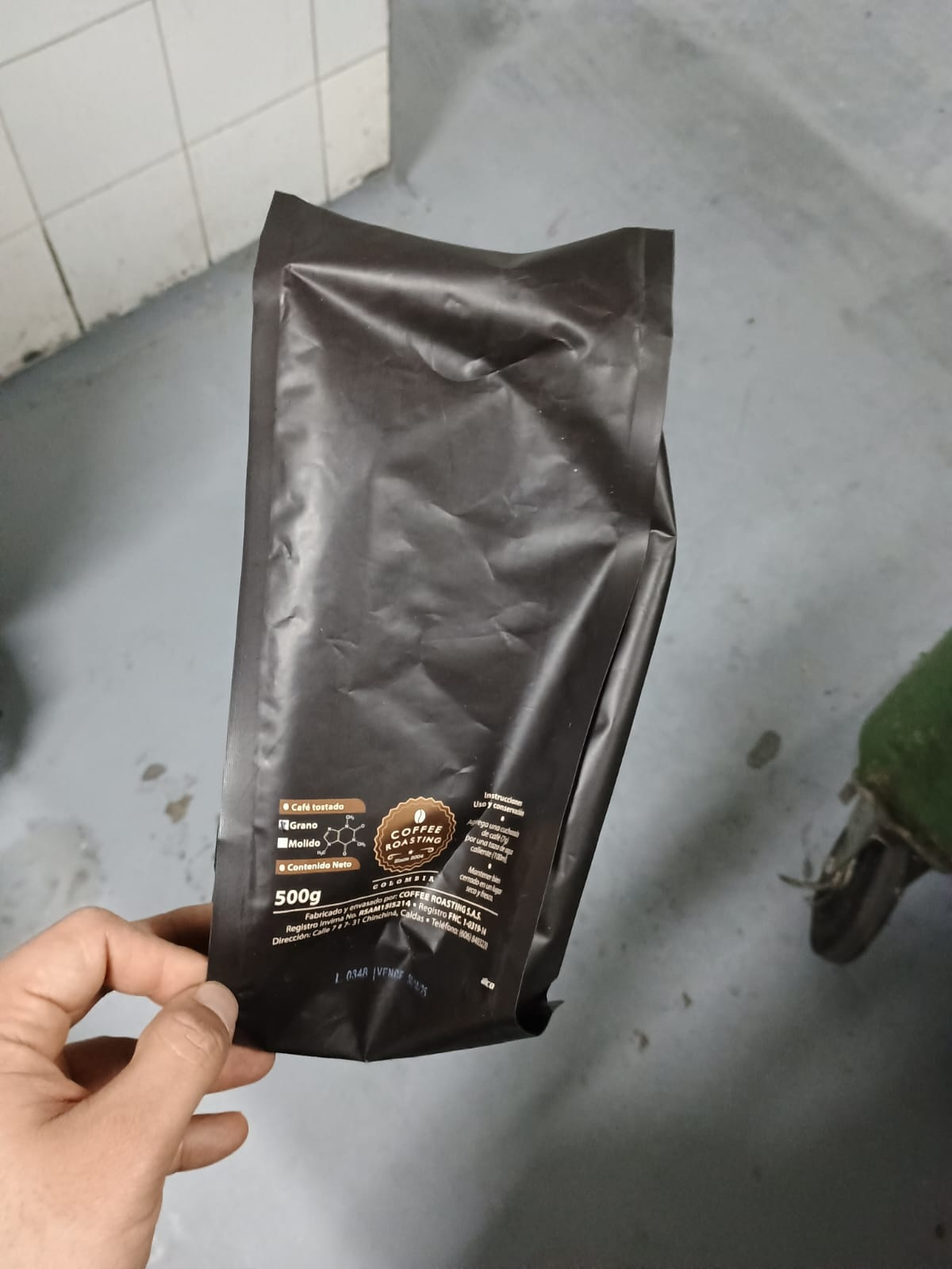Ordinario: (204, 191, 676, 1062)
